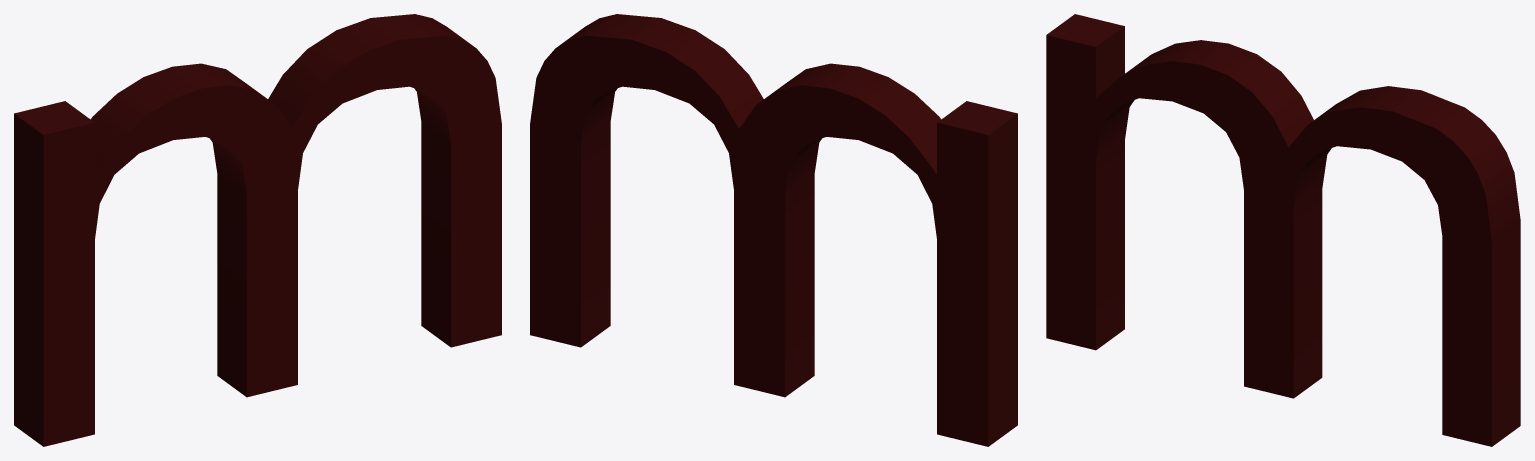
Rendered from original-42.obj.
3 renders of one model, left to right at view 1: azimuth 30°, elevation 25°; view 2: azimuth 150°, elevation 25°; view 3: azimuth 330°, elevation 25°, orthographic. The views are drawn at different scales.
Parts seen in each view (by area): view 1: mesh73/mesh73-geometry#mesh73-geometry; view 2: mesh73/mesh73-geometry#mesh73-geometry; view 3: mesh73/mesh73-geometry#mesh73-geometry.
Boxes of the visible parts, <box> form: mesh73/mesh73-geometry#mesh73-geometry: <box>14,14,501,446</box>; mesh73/mesh73-geometry#mesh73-geometry: <box>530,14,1017,446</box>; mesh73/mesh73-geometry#mesh73-geometry: <box>1046,14,1520,446</box>.
Bounding box in the file's own units: 0.0107 × 0.00713 × 0.00119.
